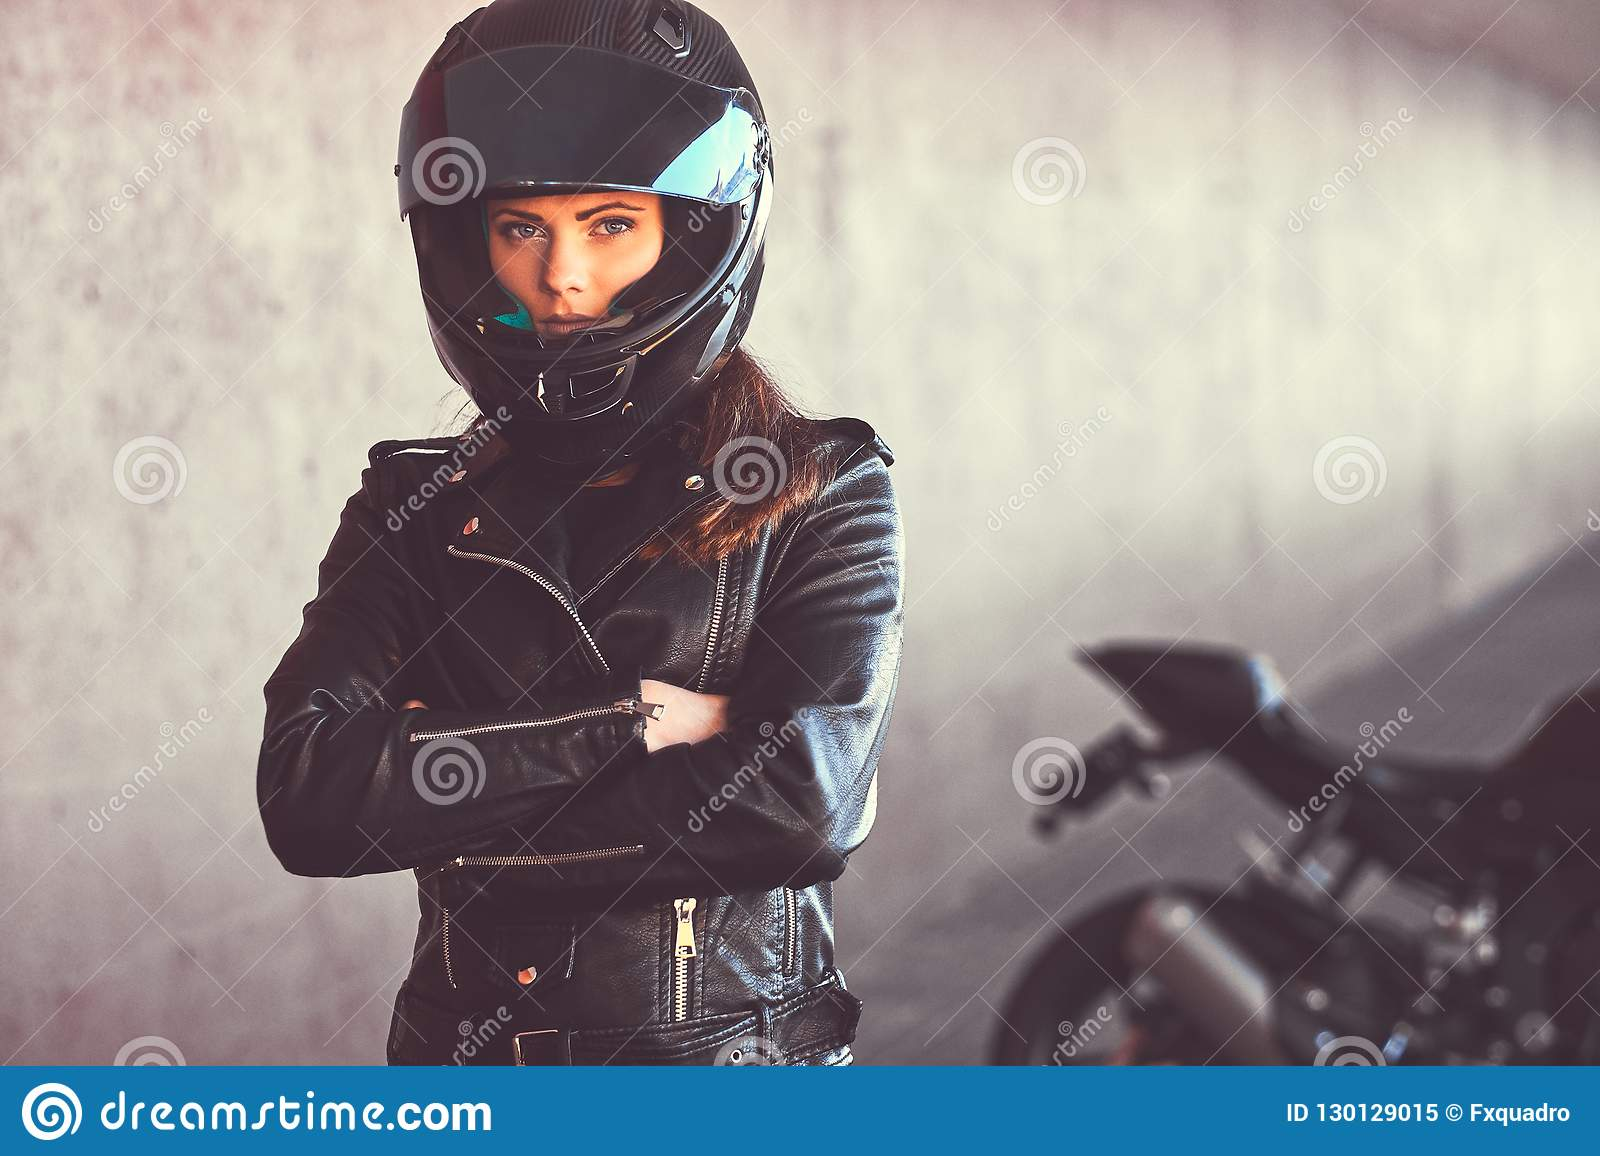helmet: (389, 11, 773, 412)
